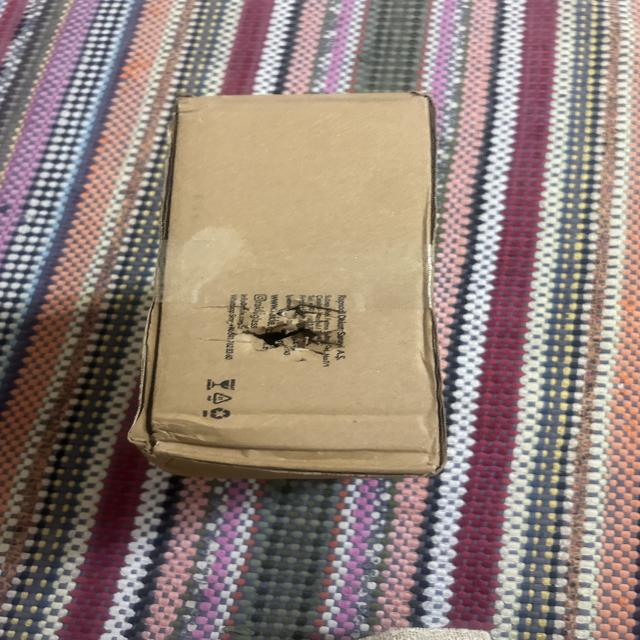damaged: (124, 87, 446, 491), (203, 287, 381, 369), (127, 402, 243, 463)
